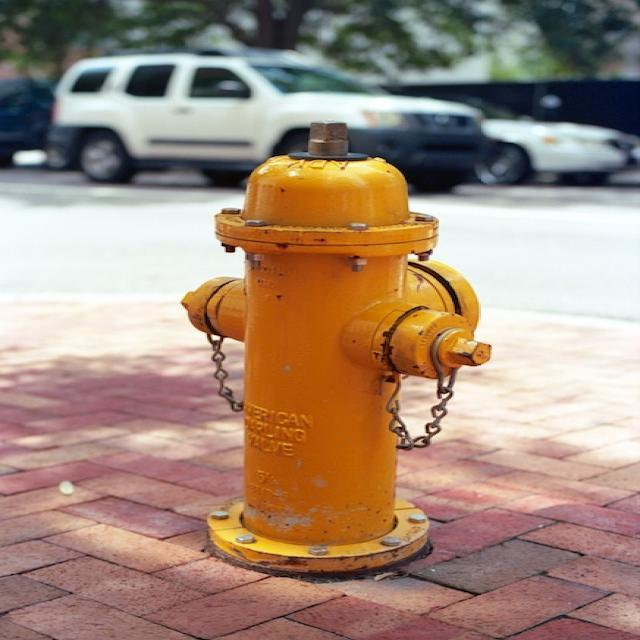fire_hydrant: (185, 129, 489, 579)
